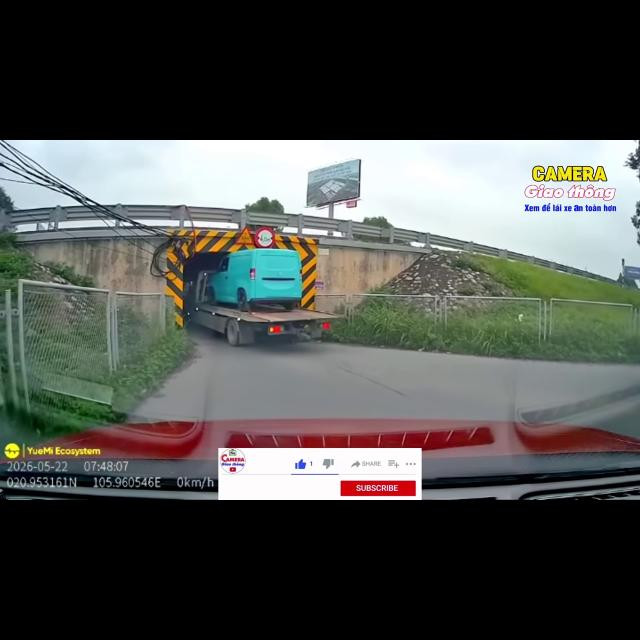car: (208, 249, 302, 311)
truck: (185, 271, 341, 346)
